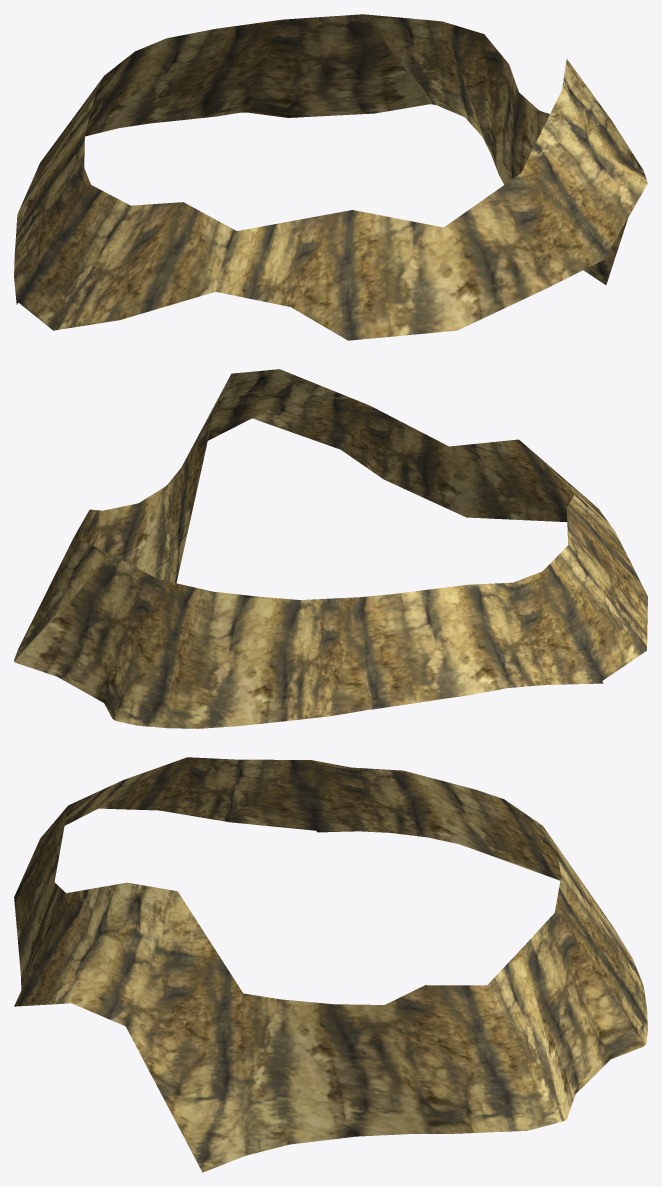
Rendered from FP_jog_island.md.038.obj.
3 views of the same model, one above another, from view 1: azimuth 30°, elevation 25°; view 2: azimuth 150°, elevation 25°; view 3: azimuth 270°, elevation 25° (orthographic). The views are drawn at different scales.
Parts seen in each view (by area): view 1: FP_jog_island.mo.038; view 2: FP_jog_island.mo.038; view 3: FP_jog_island.mo.038.
Part boxes in pixels (left/top/right/bottom): FP_jog_island.mo.038: left=14, top=14, right=647, bottom=340; FP_jog_island.mo.038: left=14, top=369, right=647, bottom=728; FP_jog_island.mo.038: left=14, top=757, right=647, bottom=1172.
Bounding box in the file's own units: 25.53 × 10.89 × 24.48.
Materials: 1 (1 with a texture image).
